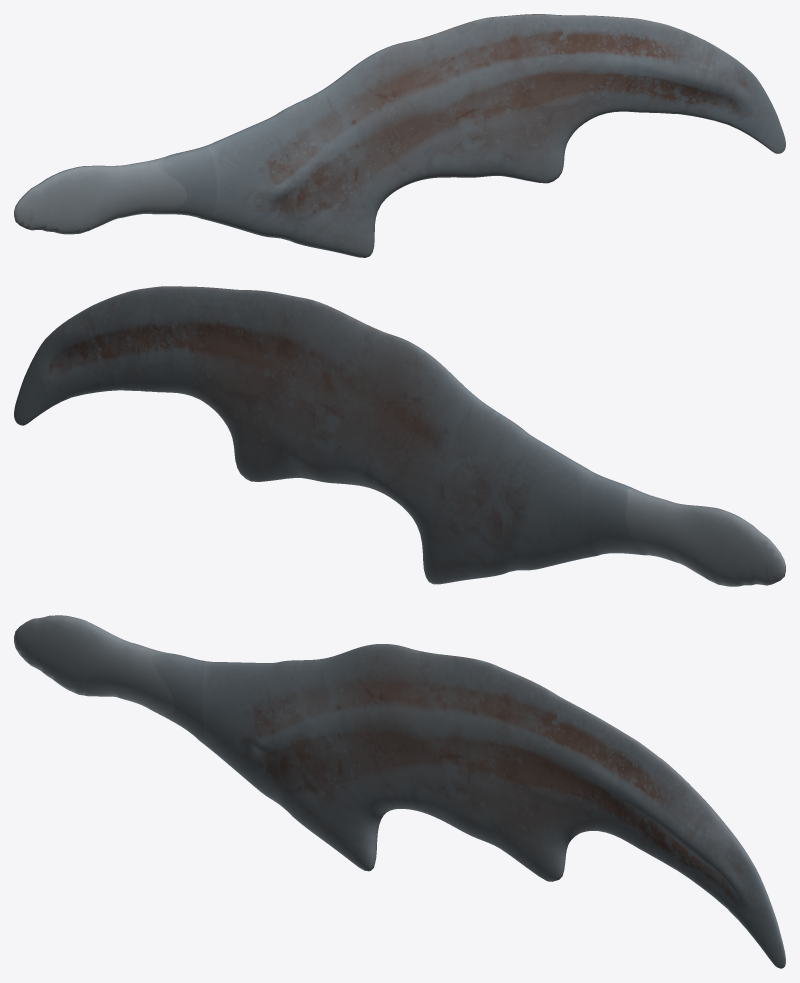
File: Pirata.glb
3 views of the same model, one above another, from view 1: azimuth 30°, elevation 25°; view 2: azimuth 150°, elevation 25°; view 3: azimuth 330°, elevation 25° (orthographic). The views are drawn at different scales.
Visible parts, largest first — view 1: Garfio; view 2: Garfio; view 3: Garfio.
Part boxes in pixels (left/top/right/bottom): Garfio: left=14, top=14, right=785, bottom=257; Garfio: left=14, top=286, right=785, bottom=586; Garfio: left=14, top=615, right=785, bottom=968.
Size of the model in its own units: 0.0208 by 0.00593 by 0.00244.
1 material, 1 textured.
